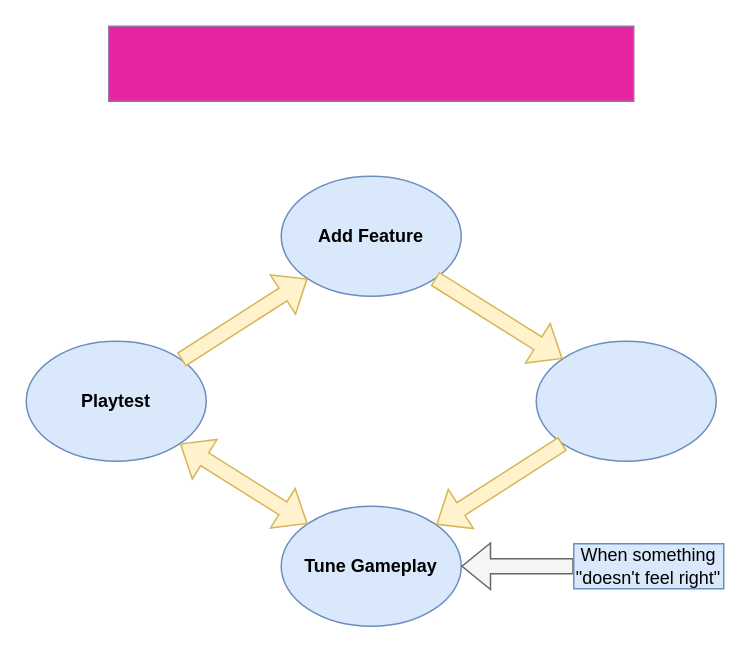
The diagram is 750 pixels wide and 653 high, and some of its shapes have lost their labels. Here are the shapes that lost their labels. From the top down, the centre of each, then its label:
At (x=370, y=63): "When To Tune Your Gameplay".
At (x=625, y=400): "Fix Bugs".
